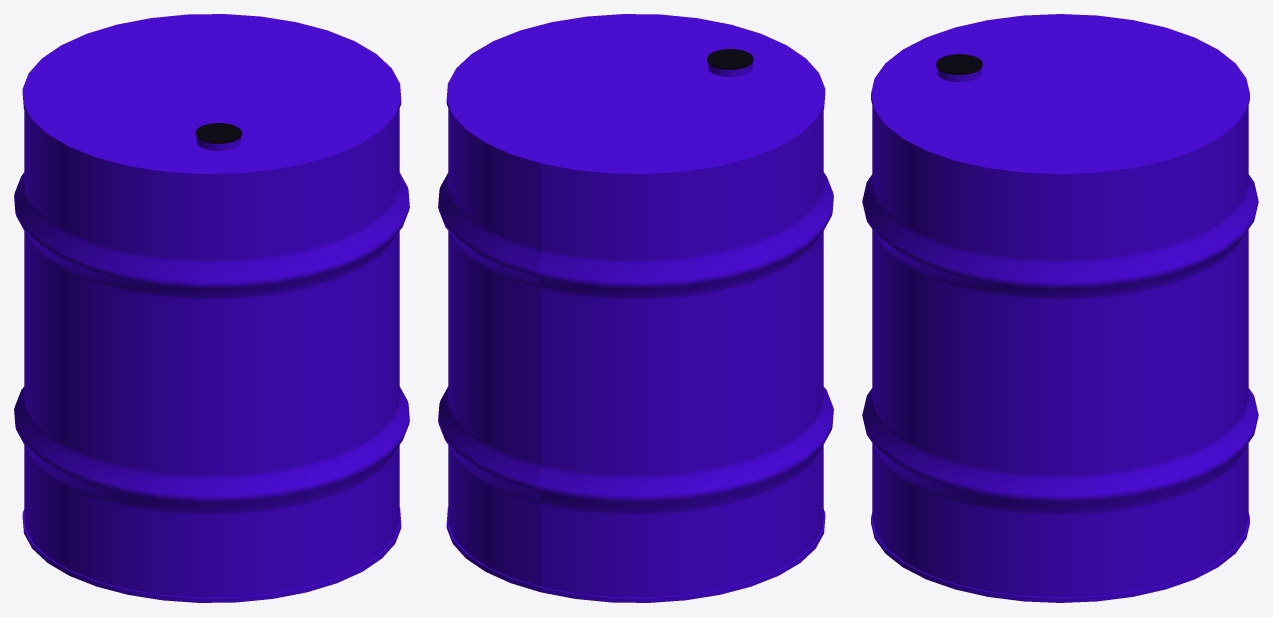
Rendered from barrel-word.glb.
3 renders of one model, left to right at view 1: azimuth 30°, elevation 25°; view 2: azimuth 150°, elevation 25°; view 3: azimuth 270°, elevation 25°, orthographic.
Visible parts, largest first — view 1: Cylinder; view 2: Cylinder; view 3: Cylinder.
Part boxes in pixels (box(x1,y1,x2,y2)): Cylinder: box(14, 14, 409, 602); Cylinder: box(438, 14, 833, 602); Cylinder: box(862, 14, 1258, 602).
Size of the model in its own units: 1.26 by 1.54 by 1.26.
